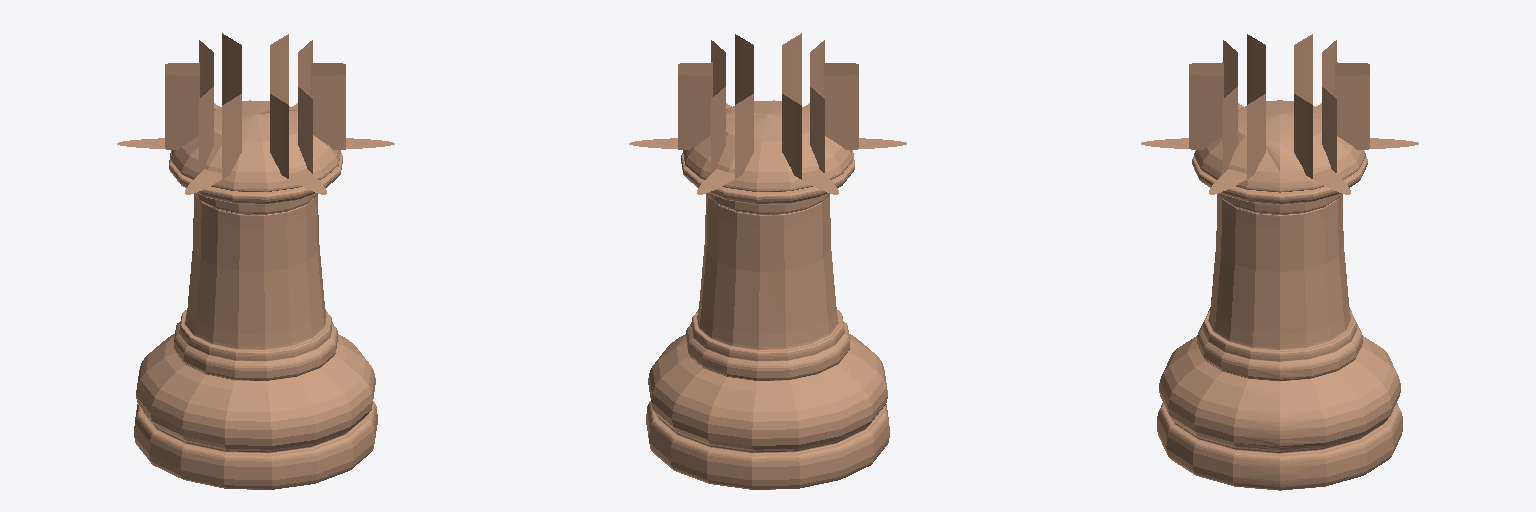
File: torreB_ficha.obj
3 views of the same model, side by side, from view 1: azimuth 30°, elevation 25°; view 2: azimuth 150°, elevation 25°; view 3: azimuth 270°, elevation 25° (orthographic).
Parts seen in each view (by area): view 1: castle_revolvedSurface2, castle_nurbsBooleanSurface2_3, castle_nurbsBooleanSurface2_2, castle_nurbsBooleanSurface2_11, castle_nurbsBooleanSurface2_17, castle_nurbsBooleanSurface2_15, castle_nurbsBooleanSurface2_9, castle_nurbsBooleanSurface2_14, castle_nurbsBooleanSurface2_8, castle_nurbsBooleanSurface2_16, castle_nurbsBooleanSurface2_10; view 2: castle_revolvedSurface2, castle_nurbsBooleanSurface2_8, castle_nurbsBooleanSurface2_9, castle_nurbsBooleanSurface2_4, castle_nurbsBooleanSurface2_16, castle_nurbsBooleanSurface2_14, castle_nurbsBooleanSurface2_2, castle_nurbsBooleanSurface2_15, castle_nurbsBooleanSurface2_3, castle_nurbsBooleanSurface2_17, castle_nurbsBooleanSurface2_5; view 3: castle_revolvedSurface2, castle_nurbsBooleanSurface2_14, castle_nurbsBooleanSurface2_15, castle_nurbsBooleanSurface2_5, castle_nurbsBooleanSurface2_10, castle_nurbsBooleanSurface2_3, castle_nurbsBooleanSurface2_8, castle_nurbsBooleanSurface2_9, castle_nurbsBooleanSurface2_2, castle_nurbsBooleanSurface2_11, castle_nurbsBooleanSurface2_4.
Part boxes in pixels (x1,y1,x2,y2): castle_revolvedSurface2: (134, 100, 377, 489); castle_nurbsBooleanSurface2_3: (165, 75, 199, 149); castle_nurbsBooleanSurface2_2: (312, 75, 345, 149); castle_nurbsBooleanSurface2_11: (222, 94, 241, 179); castle_nurbsBooleanSurface2_17: (270, 94, 288, 178); castle_nurbsBooleanSurface2_15: (222, 33, 241, 104); castle_nurbsBooleanSurface2_9: (270, 34, 288, 104); castle_nurbsBooleanSurface2_14: (298, 87, 312, 173); castle_nurbsBooleanSurface2_8: (199, 87, 213, 172); castle_nurbsBooleanSurface2_16: (199, 40, 213, 97); castle_nurbsBooleanSurface2_10: (298, 40, 312, 96); castle_revolvedSurface2: (646, 100, 889, 489); castle_nurbsBooleanSurface2_8: (824, 75, 858, 149); castle_nurbsBooleanSurface2_9: (678, 75, 711, 149); castle_nurbsBooleanSurface2_4: (782, 94, 801, 179); castle_nurbsBooleanSurface2_16: (735, 94, 753, 178); castle_nurbsBooleanSurface2_14: (782, 33, 801, 104); castle_nurbsBooleanSurface2_2: (735, 34, 753, 104); castle_nurbsBooleanSurface2_15: (711, 87, 725, 173); castle_nurbsBooleanSurface2_3: (810, 87, 824, 172); castle_nurbsBooleanSurface2_17: (810, 40, 824, 97); castle_nurbsBooleanSurface2_5: (711, 40, 725, 96); castle_revolvedSurface2: (1157, 100, 1402, 490); castle_nurbsBooleanSurface2_14: (1189, 75, 1223, 149); castle_nurbsBooleanSurface2_15: (1335, 75, 1369, 149); castle_nurbsBooleanSurface2_5: (1247, 94, 1265, 178); castle_nurbsBooleanSurface2_10: (1294, 94, 1312, 178); castle_nurbsBooleanSurface2_3: (1294, 34, 1312, 104); castle_nurbsBooleanSurface2_8: (1247, 34, 1265, 104); castle_nurbsBooleanSurface2_9: (1322, 87, 1336, 172); castle_nurbsBooleanSurface2_2: (1223, 87, 1237, 172); castle_nurbsBooleanSurface2_11: (1223, 40, 1237, 97); castle_nurbsBooleanSurface2_4: (1322, 40, 1336, 96).
Size of the model in its own units: 3.86 by 6.46 by 4.37.